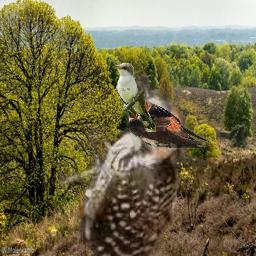Cuckoo: (112, 62, 156, 132)
Swallow: (125, 98, 211, 149)
Woodpecker: (58, 64, 185, 256)
